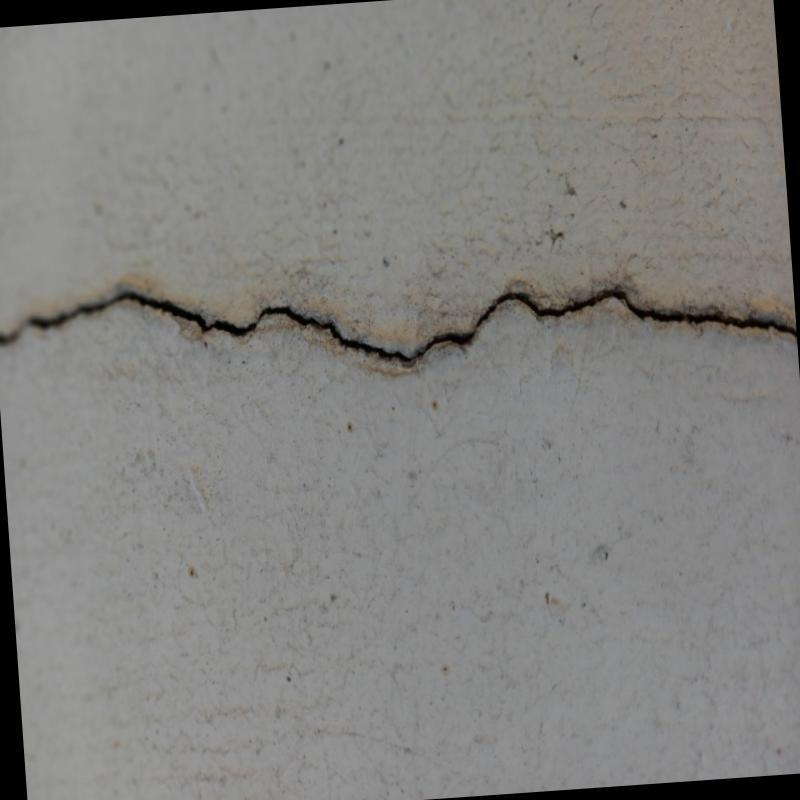crack: (0, 262, 798, 386)
